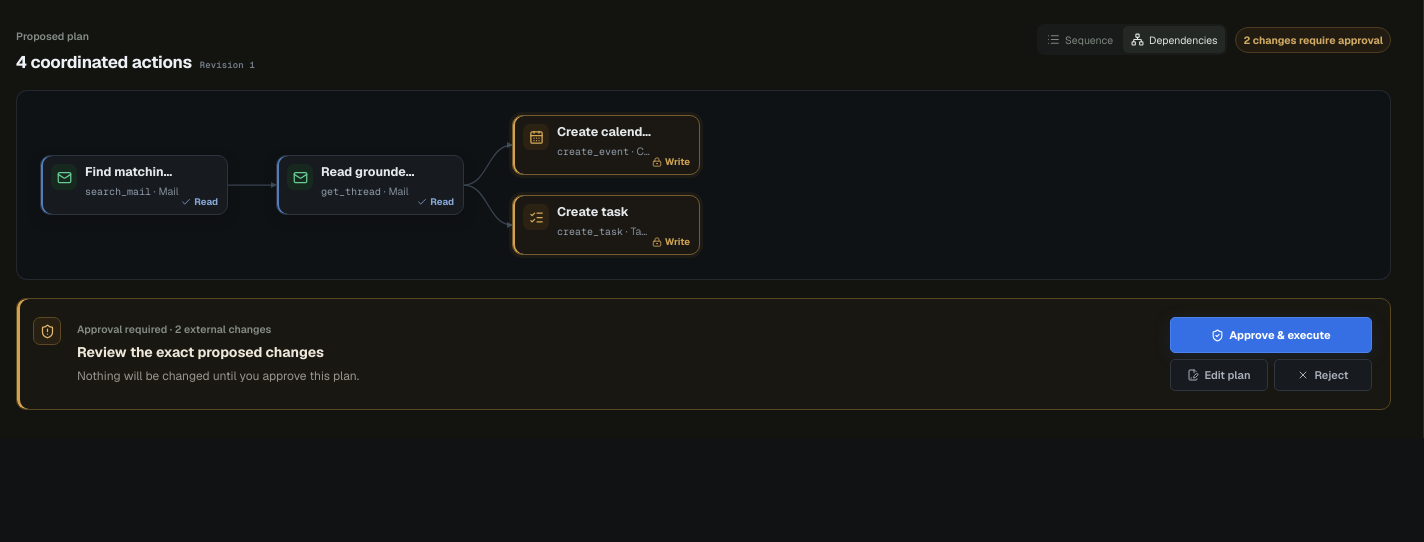
Test: DayPilot operations workspace › synchronizes dependency-node identity with the Sequence and Dependencies views
This screenshot has width=1424, height=542.
Check: the element named "Plan dependency graph" is shown, box [16, 90, 724, 280]
What coordinates should you click on to do the following:
click the button with test id "graph-node-task"
I would click on:
 (606, 225)
Its box is [512, 195, 700, 255].
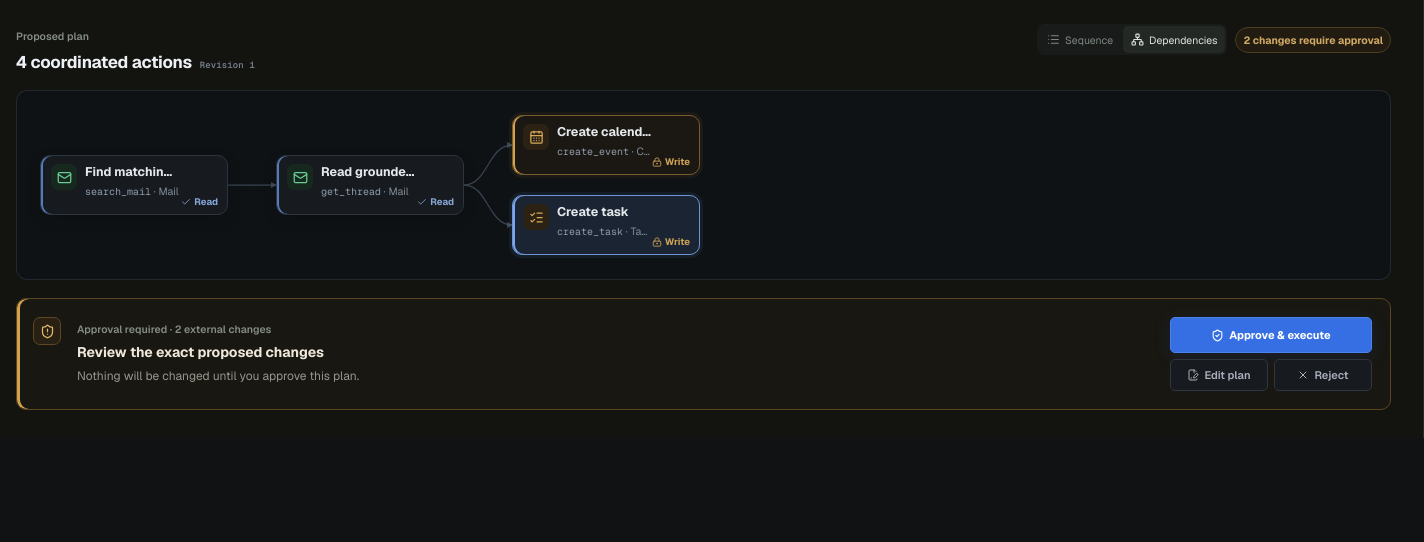
What coordinates should you click on to do the following:
click the button "Sequence"
I would click on:
 (1080, 40)
Its box is [1039, 26, 1121, 53].
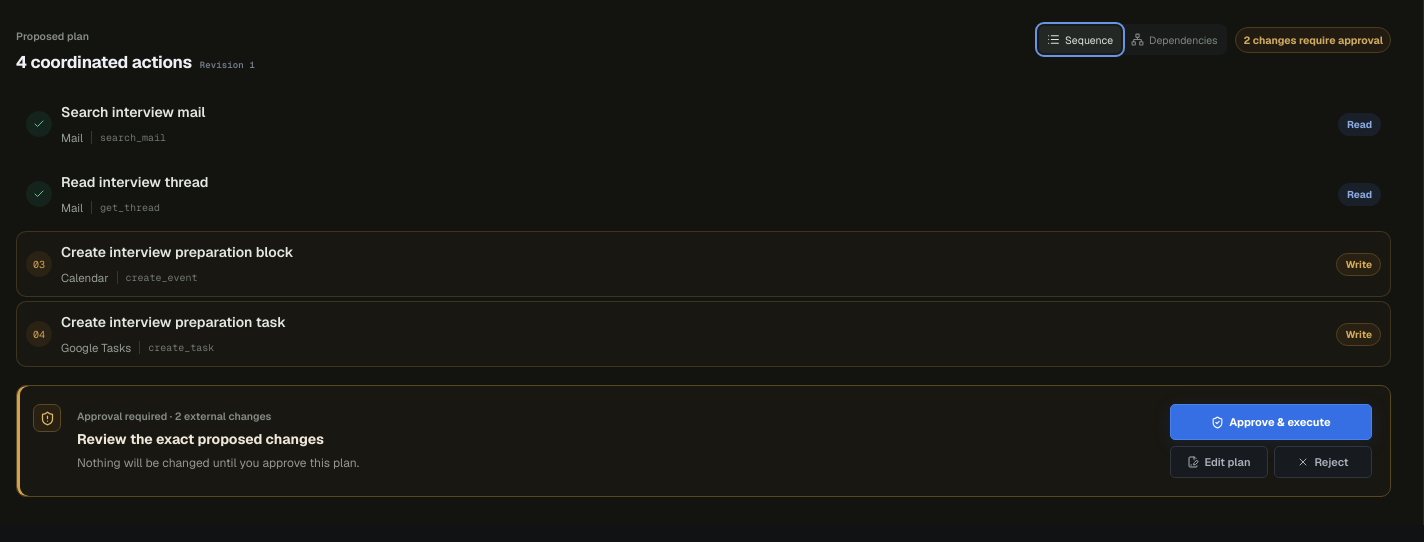
What coordinates should you click on to do the following:
click the button "Dependencies"
I would click on:
 (1174, 40)
Its box is [1123, 26, 1226, 53].
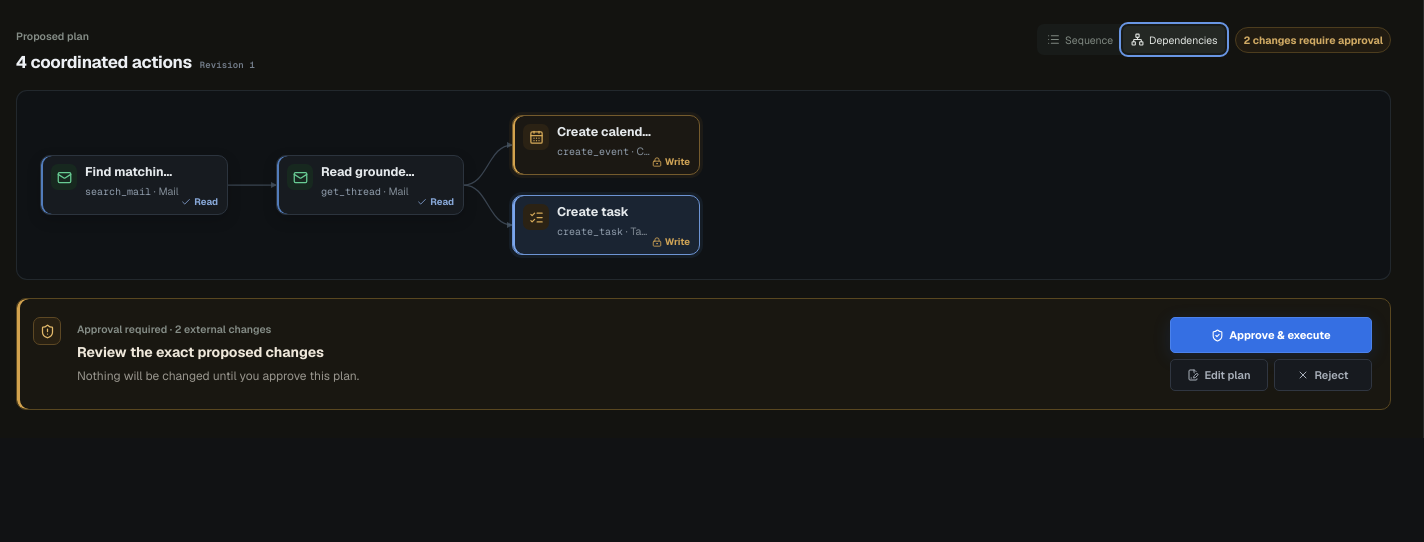
Check: the button with test id "graph-node-task" is shown, box [512, 195, 700, 255]
